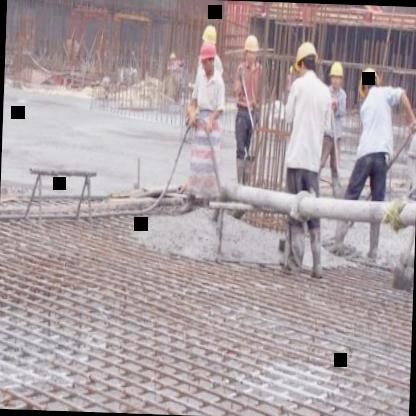helmet: (293, 40, 318, 82), (356, 63, 381, 100), (239, 34, 263, 66), (198, 41, 218, 75), (200, 26, 221, 53), (327, 58, 344, 90)
